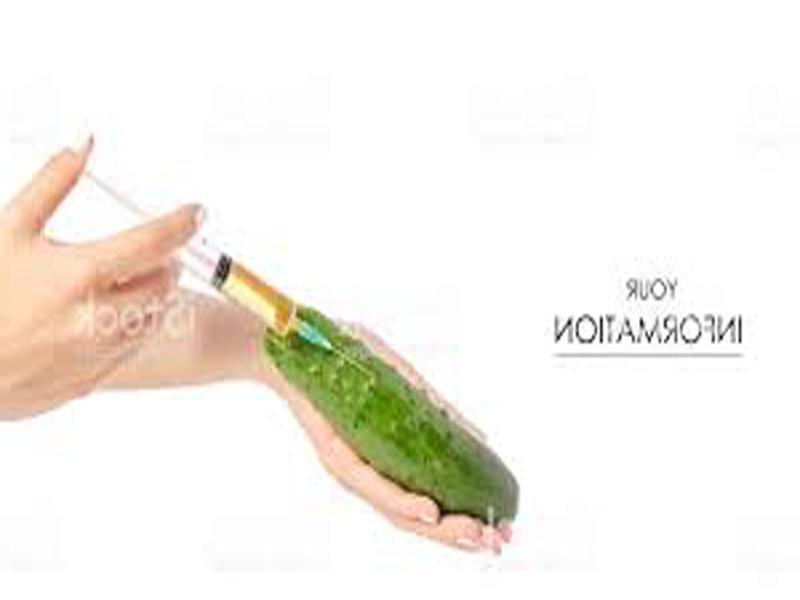Cucumber: (266, 300, 516, 521)
